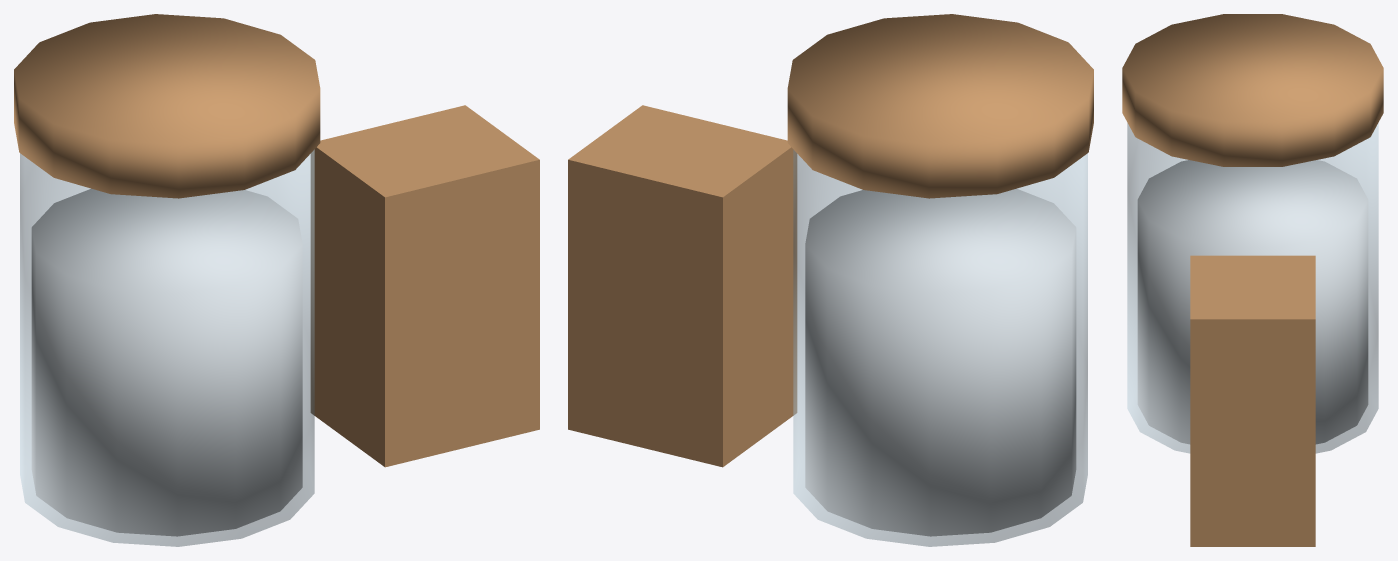
Rendered from SugarJar.fbx.
3 views of the same model, side by side, from view 1: azimuth 30°, elevation 25°; view 2: azimuth 150°, elevation 25°; view 3: azimuth 270°, elevation 25° (orthographic). The views are drawn at different scales.
Parts seen in each view (by area): view 1: SugarJarBody; view 2: SugarJarBody; view 3: SugarJarBody.
Boxes of the visible parts, x1=… form: SugarJarBody: x1=14, y1=14, x2=539, y2=546; SugarJarBody: x1=568, y1=14, x2=1093, y2=546; SugarJarBody: x1=1122, y1=14, x2=1383, y2=546.
Size of the model in its own units: 0.1807 by 0.15 by 0.104.
